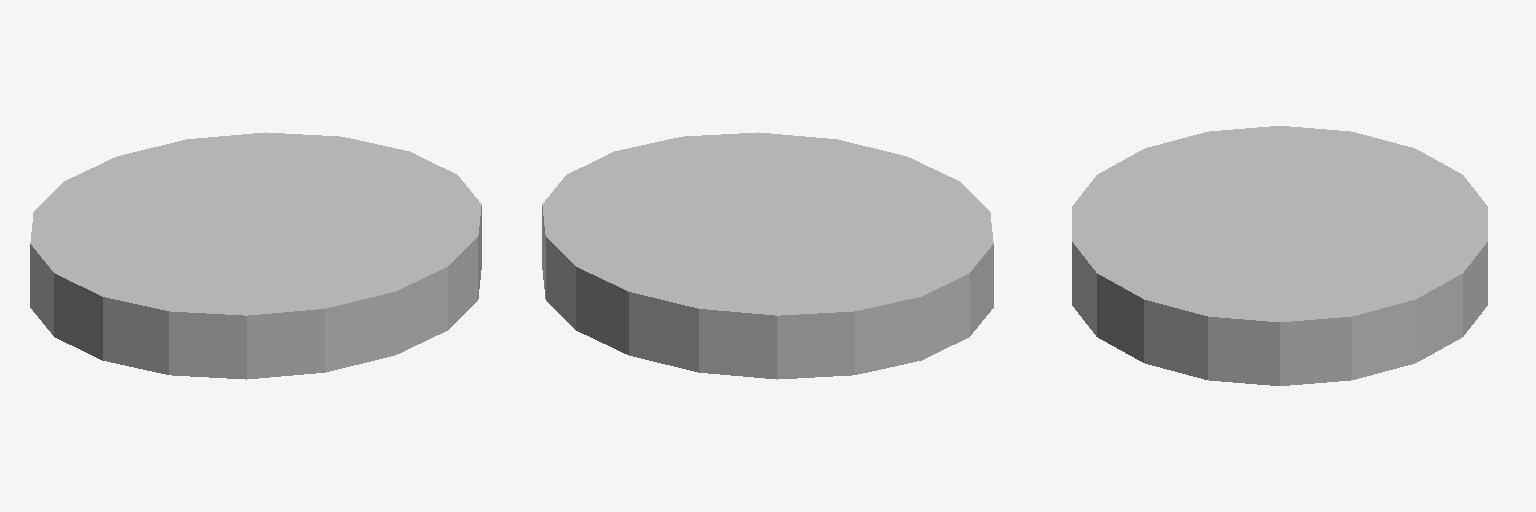
The model's file is original-13.obj.
3 renders of one model, left to right at view 1: azimuth 30°, elevation 25°; view 2: azimuth 150°, elevation 25°; view 3: azimuth 270°, elevation 25°, orthographic.
Parts seen in each view (by area): view 1: mesh9/mesh9-geometry#mesh9-geometry; view 2: mesh9/mesh9-geometry#mesh9-geometry; view 3: mesh9/mesh9-geometry#mesh9-geometry.
Part boxes in pixels (bbox=[...]): mesh9/mesh9-geometry#mesh9-geometry: bbox=[30, 132, 481, 379]; mesh9/mesh9-geometry#mesh9-geometry: bbox=[542, 132, 993, 379]; mesh9/mesh9-geometry#mesh9-geometry: bbox=[1072, 126, 1487, 385].
Size of the model in its own units: 0.0644 by 0.0097 by 0.0576.